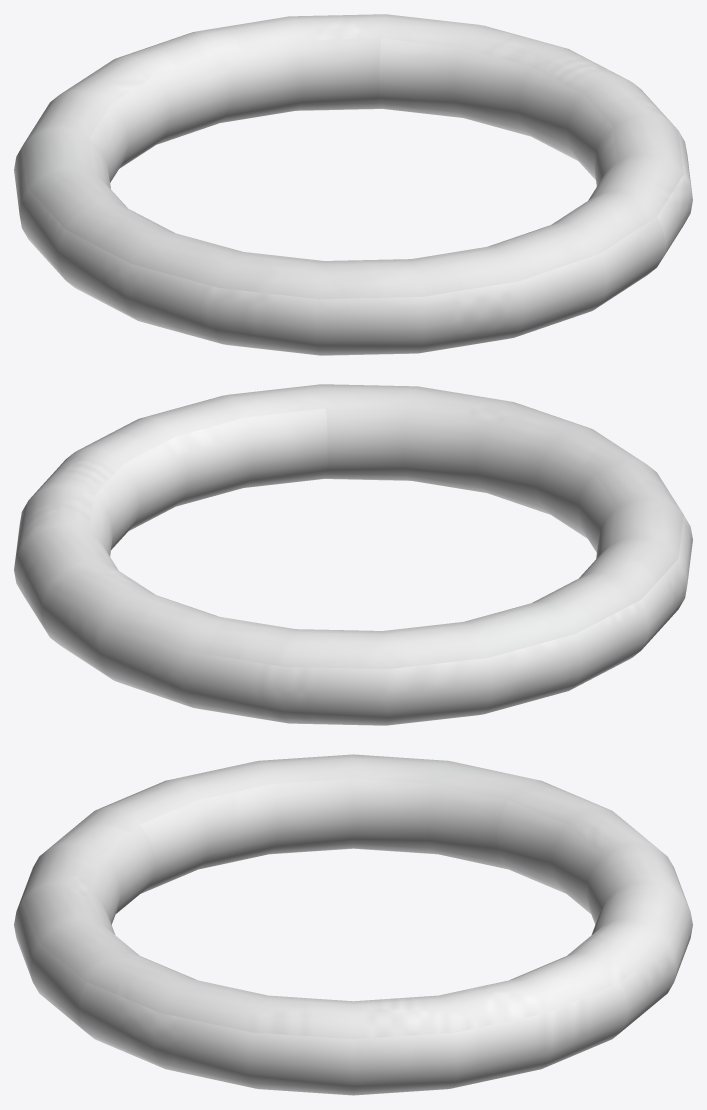
Rendered from taurauswhite.obj.
3 renders of one model, top to bottom at view 1: azimuth 30°, elevation 25°; view 2: azimuth 150°, elevation 25°; view 3: azimuth 270°, elevation 25°, orthographic.
Visible parts, largest first — view 1: pTorus1; view 2: pTorus1; view 3: pTorus1.
Part boxes in pixels (x1,y1,x2,y2): pTorus1: (14,14,692,355); pTorus1: (14,384,692,725); pTorus1: (14,754,692,1095).
Bounding box in the file's own units: 8.58 × 1.2 × 8.58.
1 material, 1 textured.
